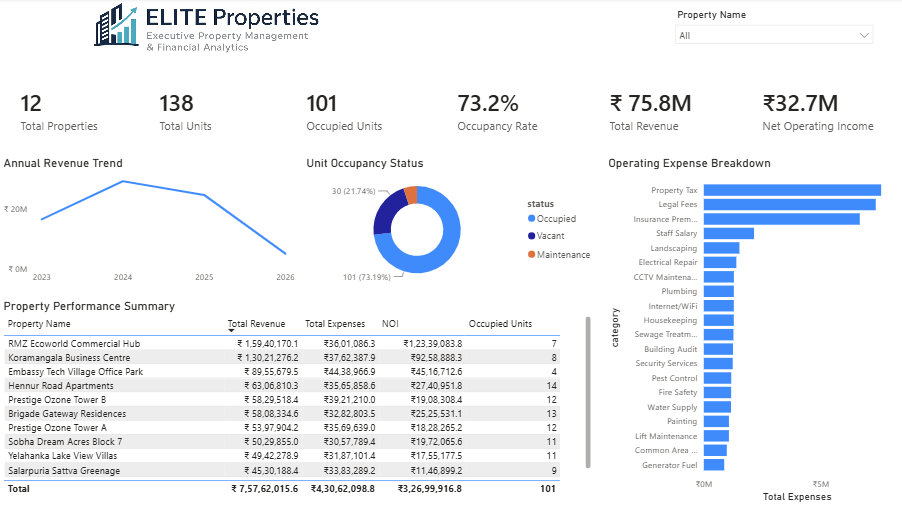

What the dashboard file says about the page in this screenshot:
{"tool":"powerbi","page":{"name":"Executive Overview","canvas":[1280,720],"ordinal":0},"visuals":[{"type":"cardVisual","fields":{"Data":["All Measures.Total Properties"]},"box":[0,106.3,188.5,103.5],"z":0},{"type":"cardVisual","fields":{"Data":["All Measures.Total Units"]},"box":[197.5,106.3,198.4,103.5],"z":1000},{"type":"cardVisual","fields":{"Data":["All Measures.Occupied Units"]},"box":[404.9,106.3,205.5,103.5],"z":2000},{"type":"cardVisual","fields":{"Data":["All Measures.Occupancy Rate %"]},"box":[619.4,106.3,206.9,103.5],"z":3000},{"type":"cardVisual","fields":{"Data":["All Measures.Total Revenue"]},"box":[835.3,106.3,206.9,103.5],"z":4000},{"type":"cardVisual","fields":{"Data":["All Measures.NOI"]},"box":[1051,106.6,229,103.7],"z":5000},{"type":"lineChart","title":"Annual Revenue Trend","fields":{"Category":["Calendar.Year"],"Y":["All Measures.Total Revenue"]},"box":[0,223.9,422.4,189.9],"z":6000},{"type":"donutChart","title":"Unit Occupancy Status","fields":{"Category":["dim units.status"],"Y":["CountNonNull(dim units.unit_id)"]},"box":[429.4,223.9,422.4,189.9],"z":7000},{"type":"clusteredBarChart","title":"Operating Expense Breakdown","fields":{"Category":["fact expenses.category"],"Y":["All Measures.Total Expenses"]},"box":[857.5,223.9,422.4,496.1],"z":8000},{"type":"tableEx","title":"Property Performance Summary","fields":{"Values":["dim properties.name","All Measures.Total Revenue","All Measures.Total Expenses","All Measures.NOI","All Measures.Occupied Units"]},"box":[0,426.6,843.3,282],"z":9000},{"type":"image","box":[0,0,586.1,106.6],"z":10000},{"type":"slicer","fields":{"Values":["dim properties.name"]},"box":[946.1,10.1,301,106.6],"z":11000}]}

Visuals, with their boxes in screenshot pixels (x1, y1, x2, y2), scaled from the page's 1280x720 canvas onto the 902x505 screenshot:
cardVisual - All Measures.Total Properties: [0, 75, 133, 147]
cardVisual - All Measures.Total Units: [139, 75, 279, 147]
cardVisual - All Measures.Occupied Units: [285, 75, 430, 147]
cardVisual - All Measures.Occupancy Rate %: [436, 75, 582, 147]
cardVisual - All Measures.Total Revenue: [589, 75, 734, 147]
cardVisual - All Measures.NOI: [741, 75, 901, 148]
"Annual Revenue Trend" lineChart: [0, 157, 298, 290]
"Unit Occupancy Status" donutChart: [303, 157, 600, 290]
"Operating Expense Breakdown" clusteredBarChart: [604, 157, 901, 504]
"Property Performance Summary" tableEx: [0, 299, 594, 497]
image: [0, 0, 413, 75]
slicer - dim properties.name: [667, 7, 879, 82]
